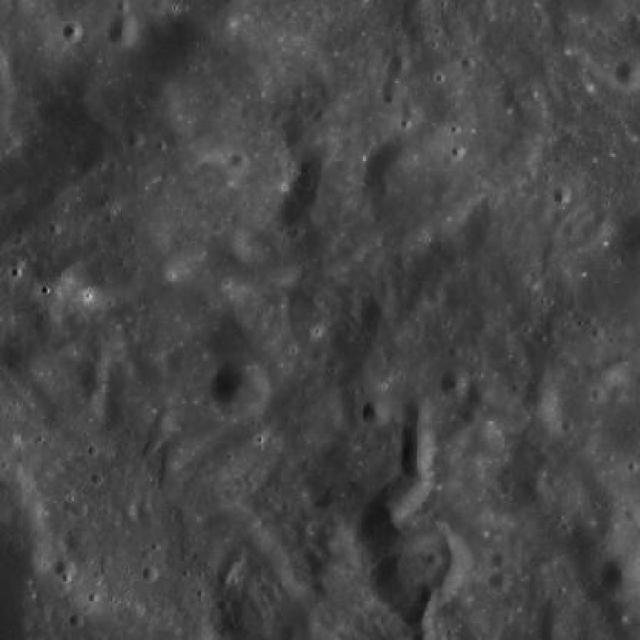crater: (364, 126, 480, 240), (367, 520, 467, 618), (210, 358, 272, 420), (208, 308, 268, 367), (276, 190, 324, 238), (298, 146, 342, 188), (600, 554, 640, 596), (314, 520, 354, 560), (524, 384, 558, 416), (76, 367, 110, 398), (106, 17, 139, 48), (439, 368, 468, 397), (33, 310, 62, 338), (466, 375, 494, 403), (614, 58, 640, 87), (362, 400, 388, 426), (458, 399, 484, 424), (490, 568, 513, 590), (62, 22, 84, 44), (383, 84, 405, 105), (230, 153, 250, 172), (552, 185, 571, 204), (55, 559, 74, 578), (387, 55, 407, 73), (9, 0, 32, 15), (402, 109, 420, 128), (426, 288, 444, 306), (490, 550, 508, 568), (70, 500, 88, 517), (626, 504, 640, 524)
